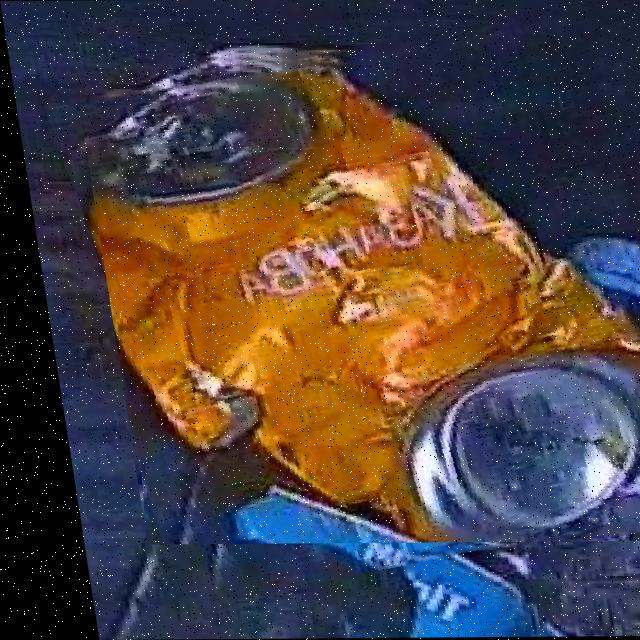litter: (84, 59, 640, 542)
